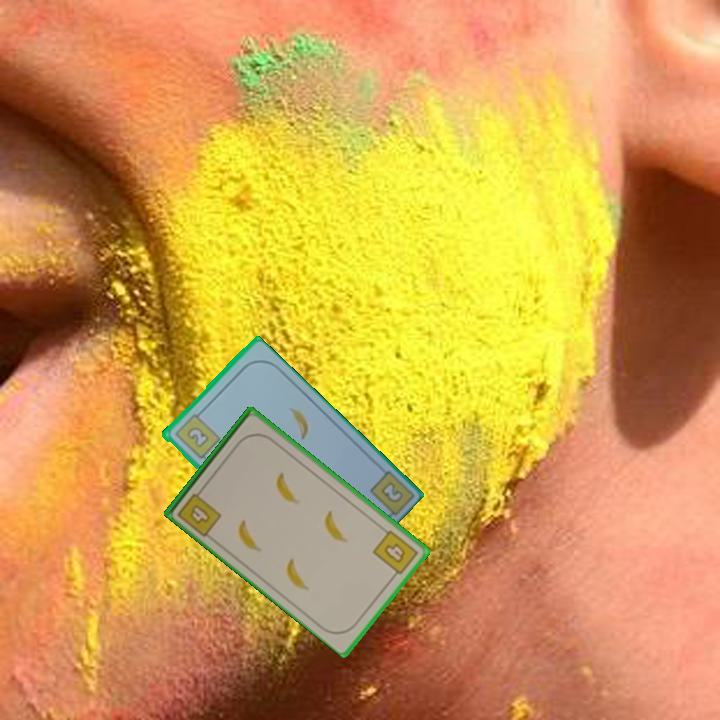2b: (171, 407, 223, 462), (377, 478, 406, 506)
4b: (369, 526, 421, 581), (174, 483, 225, 539)
